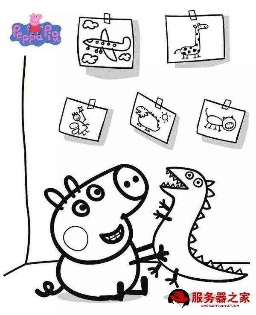Peppa: (36, 161, 172, 306)
